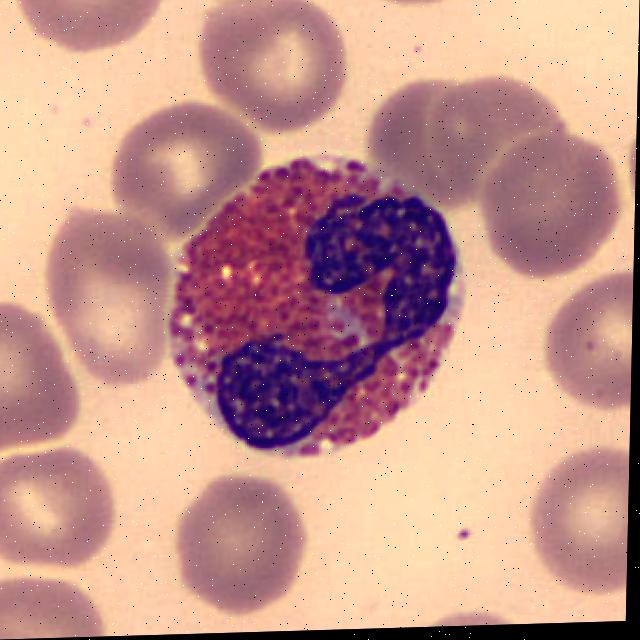eosinophil: (164, 156, 473, 478)
rbc: (480, 126, 628, 281), (200, 0, 363, 139), (106, 104, 266, 244), (52, 209, 173, 388), (169, 474, 313, 621), (424, 79, 568, 217), (373, 78, 496, 210), (530, 448, 630, 609), (0, 434, 114, 565), (0, 298, 83, 462), (541, 269, 634, 409), (19, 0, 169, 56), (0, 568, 113, 640)
